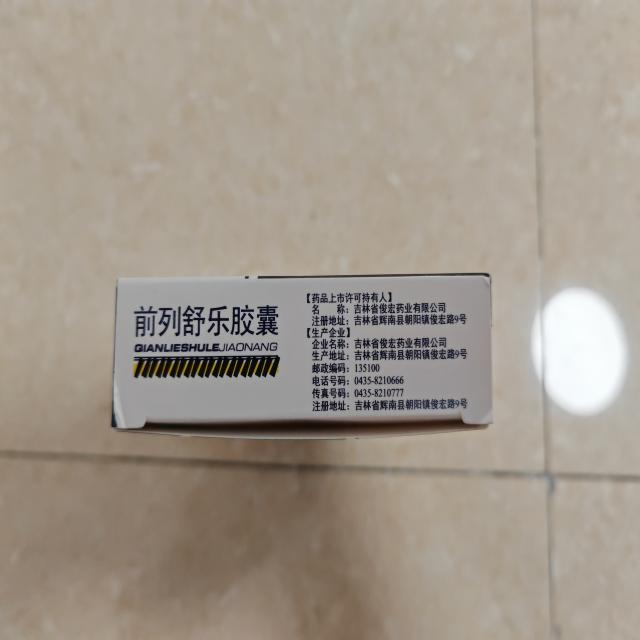box: (106, 264, 502, 444)
